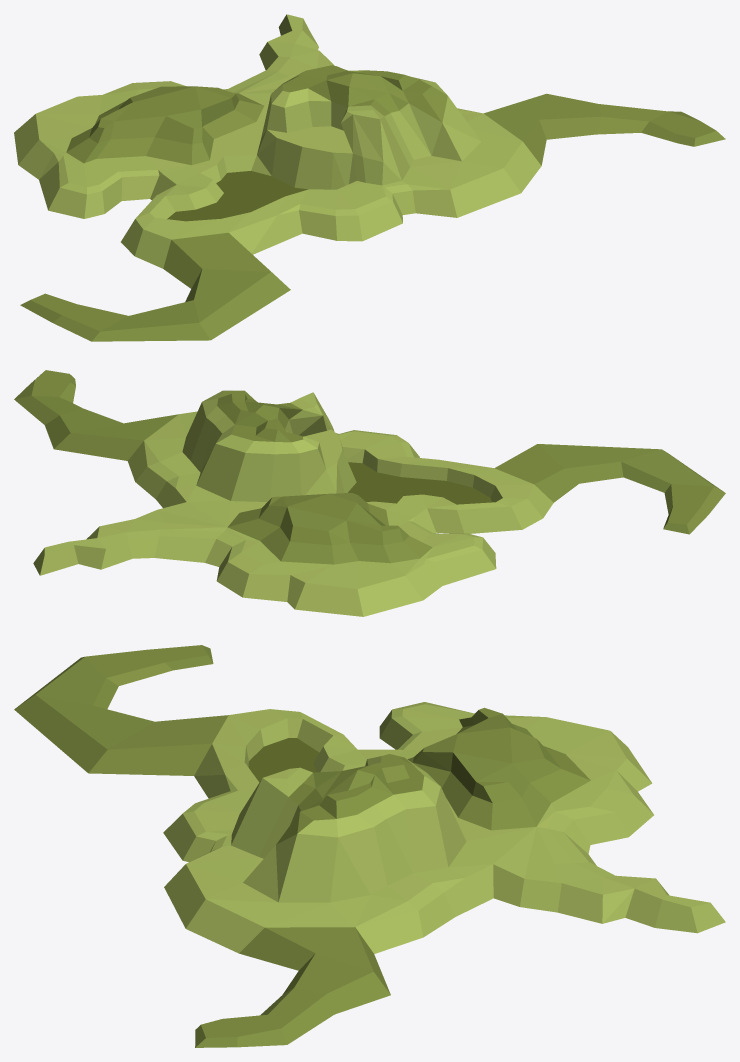
The model's file is EA03_Nature_Bush_03d.glb.
3 renders of one model, top to bottom at view 1: azimuth 30°, elevation 25°; view 2: azimuth 150°, elevation 25°; view 3: azimuth 270°, elevation 25°, orthographic. The views are drawn at different scales.
Visible parts, largest first — view 1: EA03_Nature_Bush_03d; view 2: EA03_Nature_Bush_03d; view 3: EA03_Nature_Bush_03d.
Part boxes in pixels (box(x1,y1,x2,y2)): EA03_Nature_Bush_03d: box(14, 14, 725, 341); EA03_Nature_Bush_03d: box(14, 370, 725, 616); EA03_Nature_Bush_03d: box(14, 645, 725, 1047).
Bounding box in the file's own units: 4.45 × 0.5435 × 3.35.
Materials: 1 (1 with a texture image).
